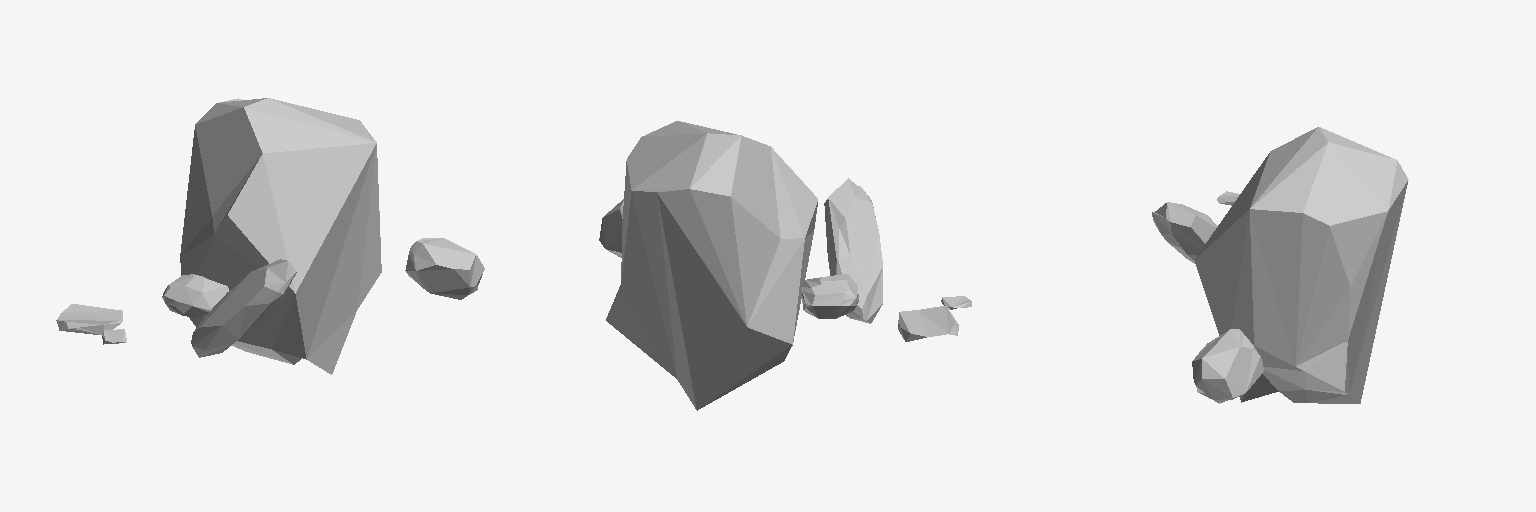
The model's file is RockGroup_LOD2.obj.
3 renders of one model, left to right at view 1: azimuth 30°, elevation 25°; view 2: azimuth 150°, elevation 25°; view 3: azimuth 270°, elevation 25°, orthographic.
Parts seen in each view (by area): view 1: RockGroup_Cube.003; view 2: RockGroup_Cube.003; view 3: RockGroup_Cube.003.
Boxes of the visible parts, x1,y1,x2,y2 form: RockGroup_Cube.003: [56, 98, 484, 374]; RockGroup_Cube.003: [599, 121, 971, 410]; RockGroup_Cube.003: [1152, 127, 1408, 403].
Size of the model in its own units: 2.33 by 1.54 by 1.35.